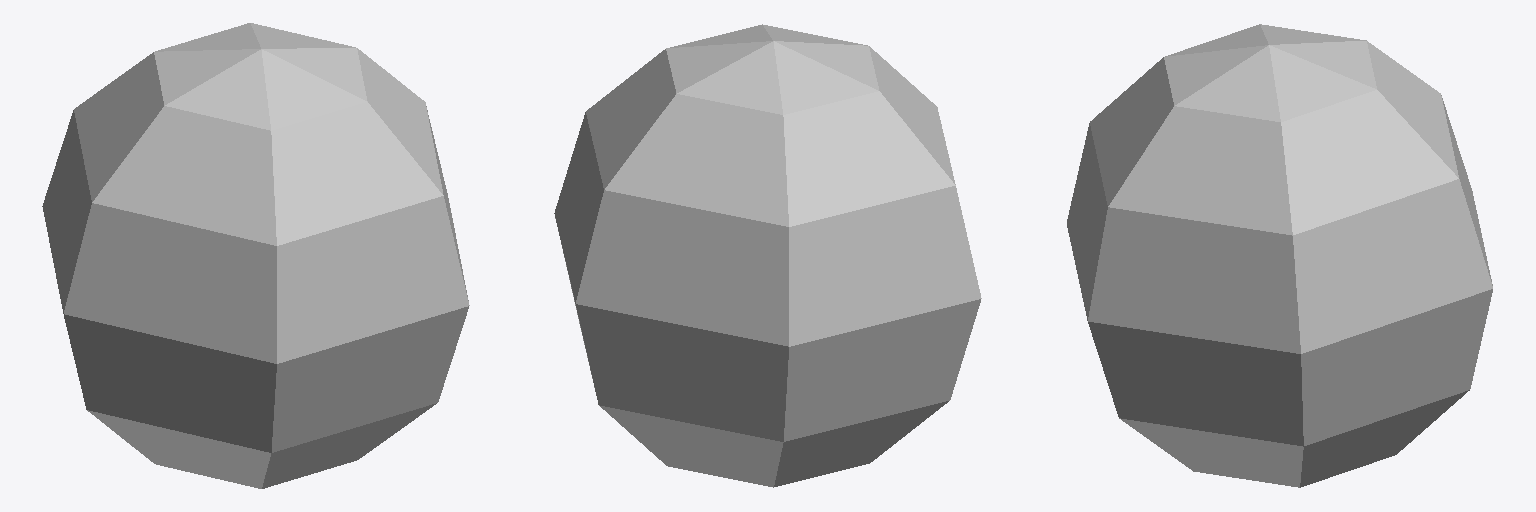
Rendered from Biolizard's Egg.obj.
3 views of the same model, side by side, from view 1: azimuth 30°, elevation 25°; view 2: azimuth 150°, elevation 25°; view 3: azimuth 270°, elevation 25° (orthographic).
Parts seen in each view (by area): view 1: Mesh_0316; view 2: Mesh_0316; view 3: Mesh_0316.
Part boxes in pixels (left/top/right/bottom): Mesh_0316: left=42, top=23, right=469, bottom=488; Mesh_0316: left=554, top=24, right=981, bottom=487; Mesh_0316: left=1067, top=24, right=1492, bottom=487.
Size of the model in its own units: 1 by 0.9937 by 0.9112.